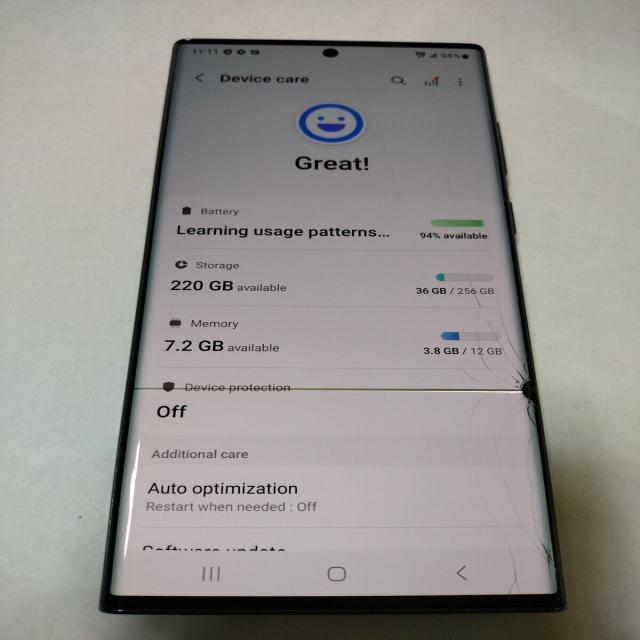Crack: (490, 340, 561, 441)
